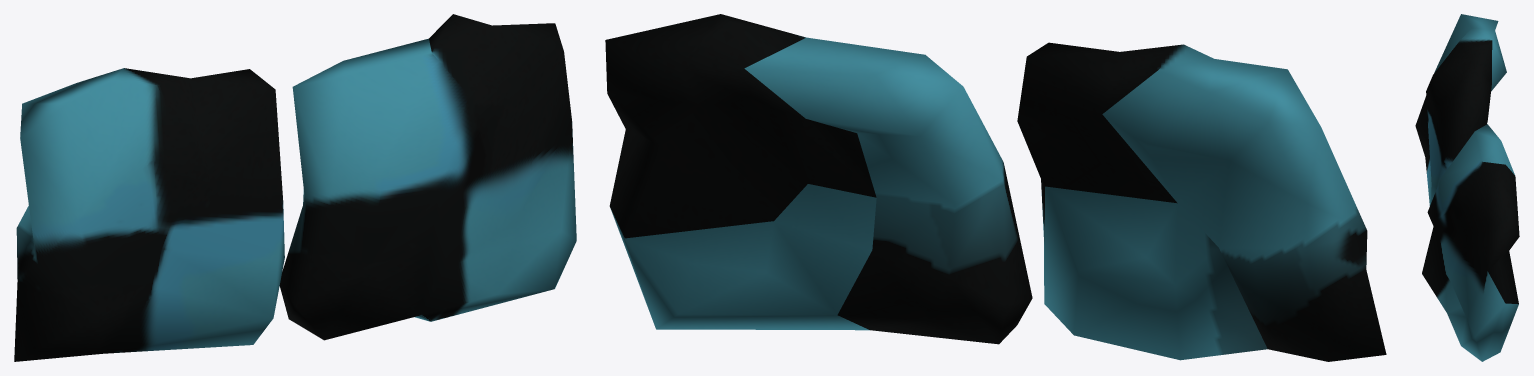
File: alien eyes.glb
The picture shows the model from 3 angles, left to right: view 1: azimuth 30°, elevation 25°; view 2: azimuth 150°, elevation 25°; view 3: azimuth 270°, elevation 25°; orthographic projection. The views are drawn at different scales.
Visible parts, largest first — view 1: eyes_alien.001; view 2: eyes_alien.001; view 3: eyes_alien.001.
Part boxes in pixels (x1=…): eyes_alien.001: x1=14, y1=14, x2=576, y2=361; eyes_alien.001: x1=605, y1=14, x2=1386, y2=361; eyes_alien.001: x1=1415, y1=14, x2=1519, y2=361.
Size of the model in its own units: 0.0824 by 0.0429 by 0.0204.
Materials: 1 (1 with a texture image).
